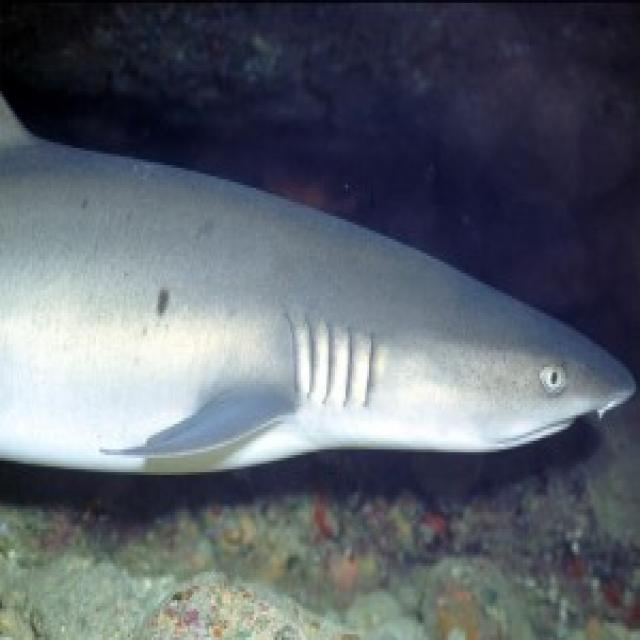Shark: (0, 94, 640, 489)
